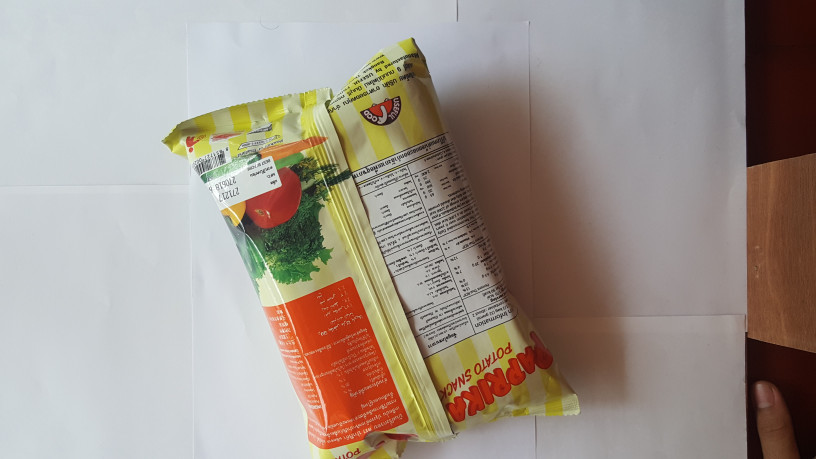paprika: (153, 42, 560, 459)
